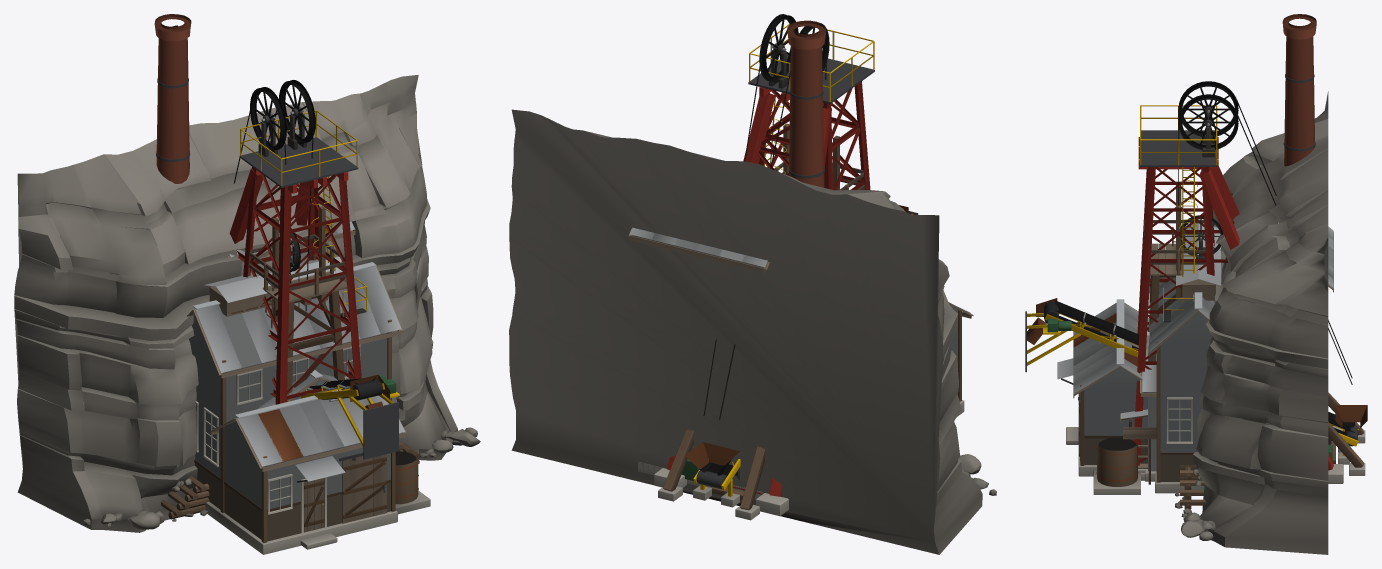
Rendered from claim-kit.glb.
3 views of the same model, side by side, from view 1: azimuth 30°, elevation 25°; view 2: azimuth 150°, elevation 25°; view 3: azimuth 270°, elevation 25° (orthographic). The views are drawn at different scales.
Parts seen in each view (by area): view 1: portal, mill, headframe_steel, headframe_wood, conveyor, portal_frame, sheave_0, sheave_1, hoist_house; view 2: portal, headframe_steel, mill, headframe_wood, conveyor, sheave_1; view 3: portal, mill, headframe_steel, conveyor, headframe_wood, sheave_1, hoist_house, sheave_0, portal_frame, sheave.
Part boxes in pixels (bbox=[...]): portal: bbox=[14, 75, 480, 532]; mill: bbox=[154, 14, 430, 554]; headframe_steel: bbox=[229, 110, 367, 404]; headframe_wood: bbox=[248, 234, 347, 400]; conveyor: bbox=[301, 374, 399, 459]; portal_frame: bbox=[160, 433, 419, 519]; sheave_0: bbox=[250, 87, 286, 150]; sheave_1: bbox=[279, 80, 315, 143]; hoist_house: bbox=[256, 370, 346, 409]; portal: bbox=[509, 109, 996, 554]; headframe_steel: bbox=[654, 21, 874, 516]; mill: bbox=[628, 20, 973, 500]; headframe_wood: bbox=[658, 162, 865, 520]; conveyor: bbox=[684, 205, 918, 507]; sheave_1: bbox=[759, 14, 798, 82]; portal: bbox=[1175, 91, 1328, 554]; mill: bbox=[1057, 14, 1333, 494]; headframe_steel: bbox=[1133, 99, 1352, 483]; conveyor: bbox=[1025, 298, 1367, 464]; headframe_wood: bbox=[1144, 220, 1365, 475]; sheave_1: bbox=[1178, 94, 1238, 149]; hoist_house: bbox=[1140, 332, 1156, 481]; sheave_0: bbox=[1178, 81, 1238, 136]; portal_frame: bbox=[1180, 465, 1206, 509]; sheave: bbox=[1181, 215, 1223, 256].
Size of the model in its own units: 17.45 by 18.35 by 13.7.
